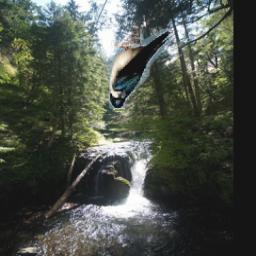Swallow: (109, 29, 171, 109)
